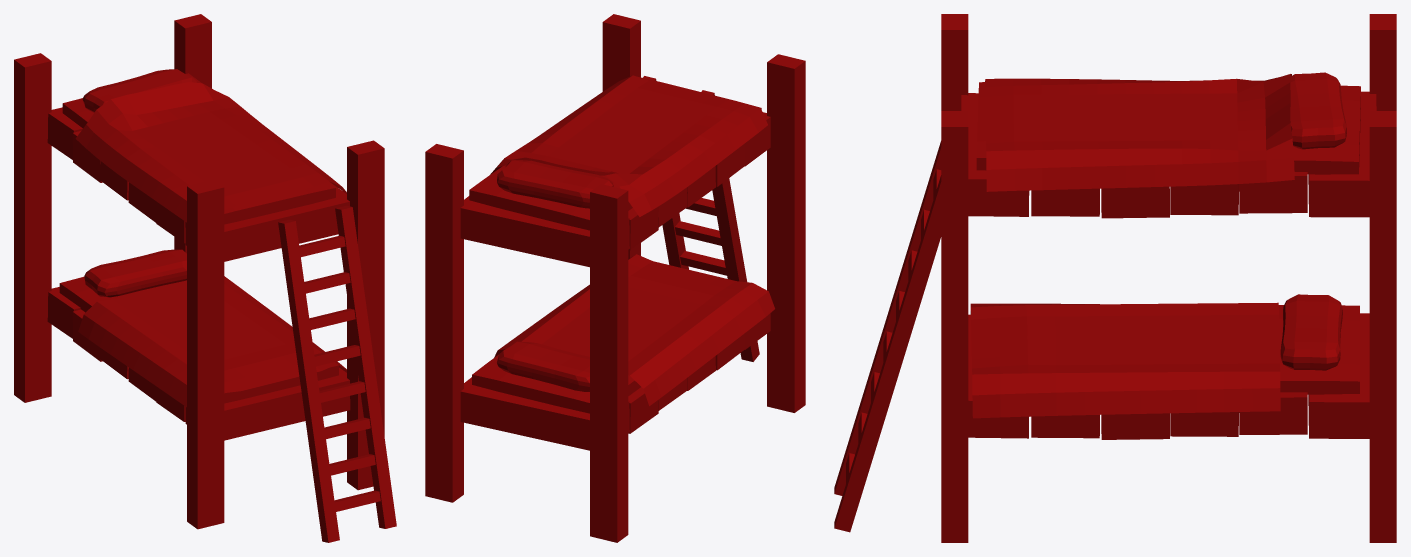
File: chuang_1 1.fbx
3 renders of one model, left to right at view 1: azimuth 30°, elevation 25°; view 2: azimuth 150°, elevation 25°; view 3: azimuth 270°, elevation 25°, orthographic. The views are drawn at different scales.
Visible parts, largest first — view 1: 平面.002; view 2: 平面.002; view 3: 平面.002.
Boxes of the visible parts, x1,y1,x2,y2 form: 平面.002: (14,14,396,542); 平面.002: (425,14,805,542); 平面.002: (834,14,1396,542).
Size of the model in its own units: 65.69 by 115 by 138.
